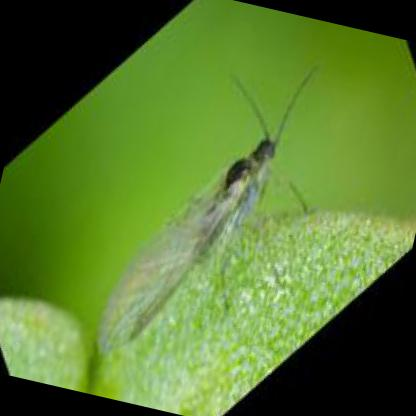schizaphis graminum: (102, 133, 274, 353)
